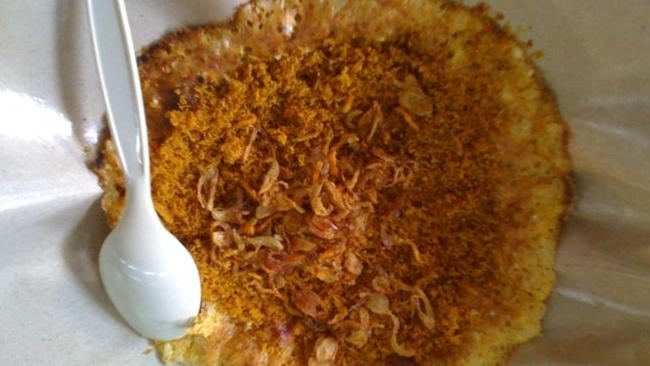kerak_telor: (203, 2, 574, 366)
